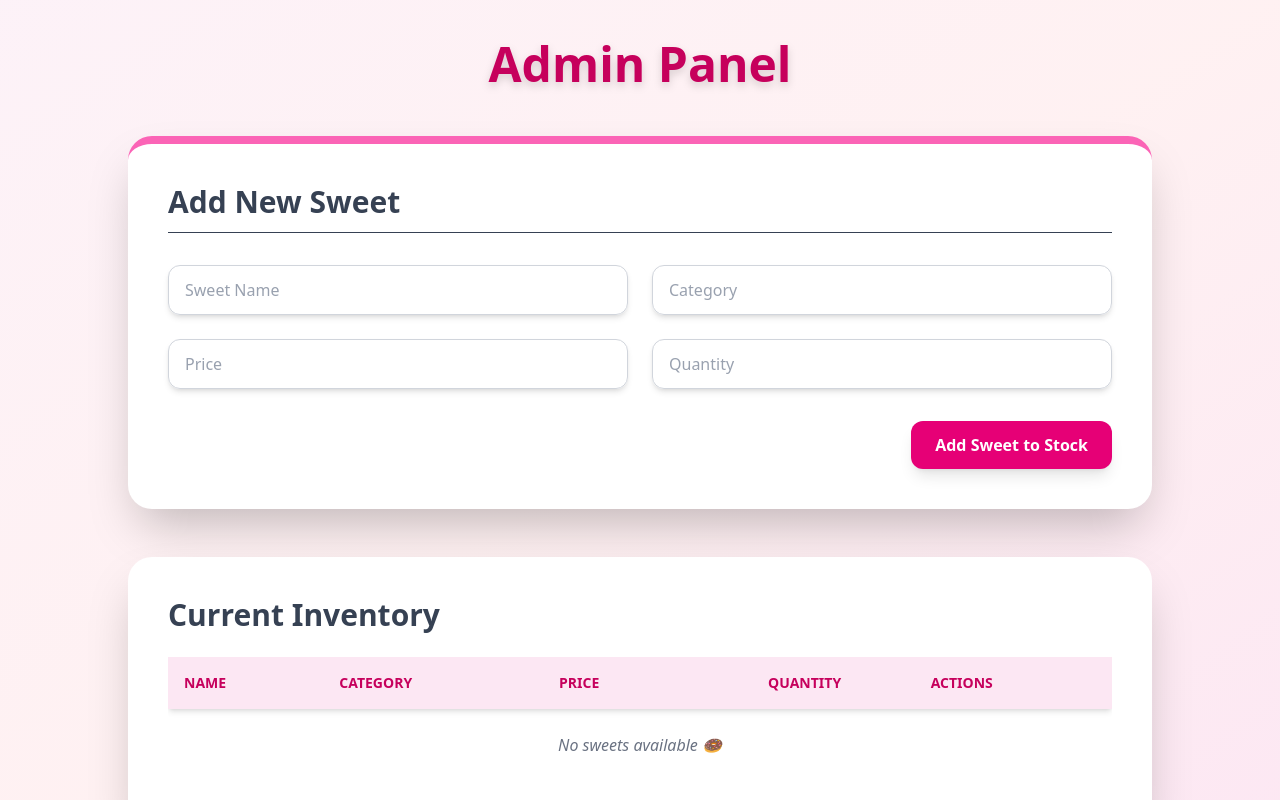
Test case: AdminSweetsPage › adds a new sweet
# Using the simple placeholders from the latest component file
Type "Barfi" into the field with placeholder "Sweet Name".
click(398, 290); type("Barfi")  # box 168,265 -> 628,315
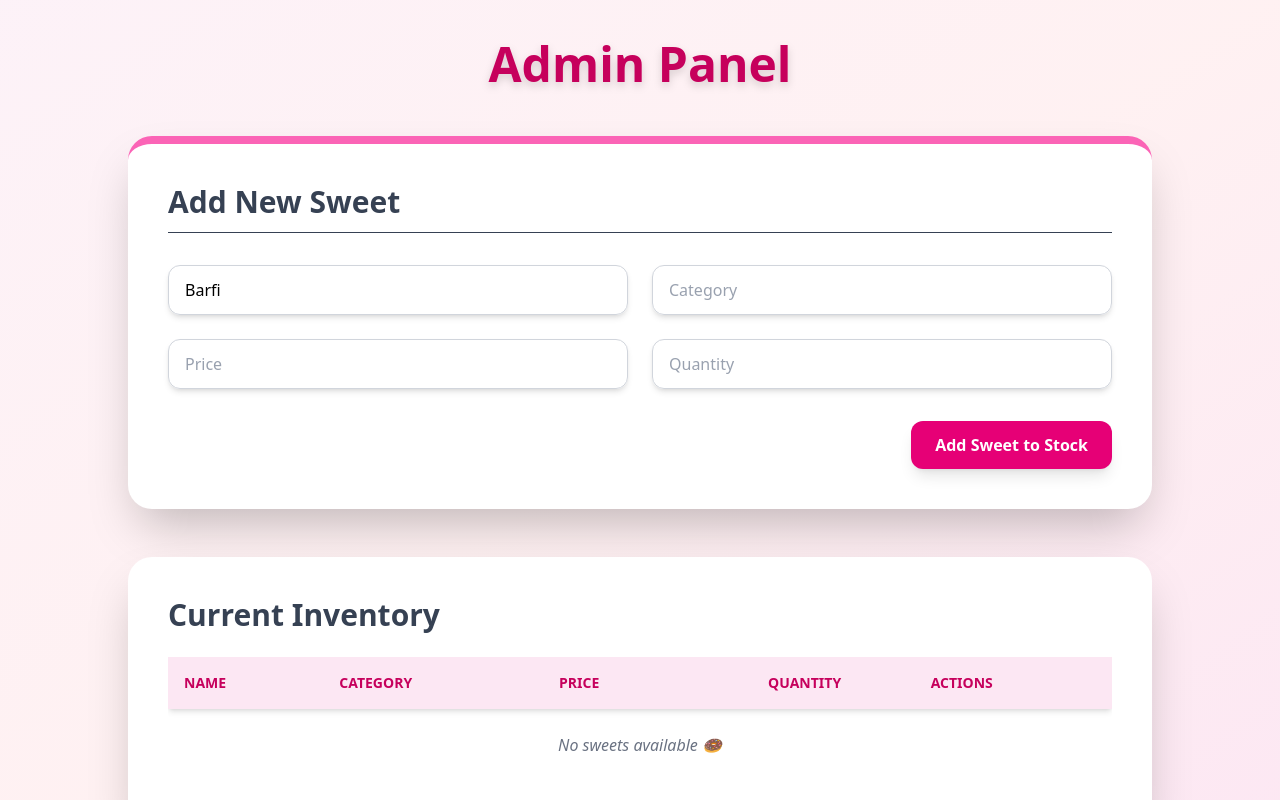
Type "Indian" into the field with placeholder "Category".
click(882, 290); type("Indian")  # box 652,265 -> 1112,315
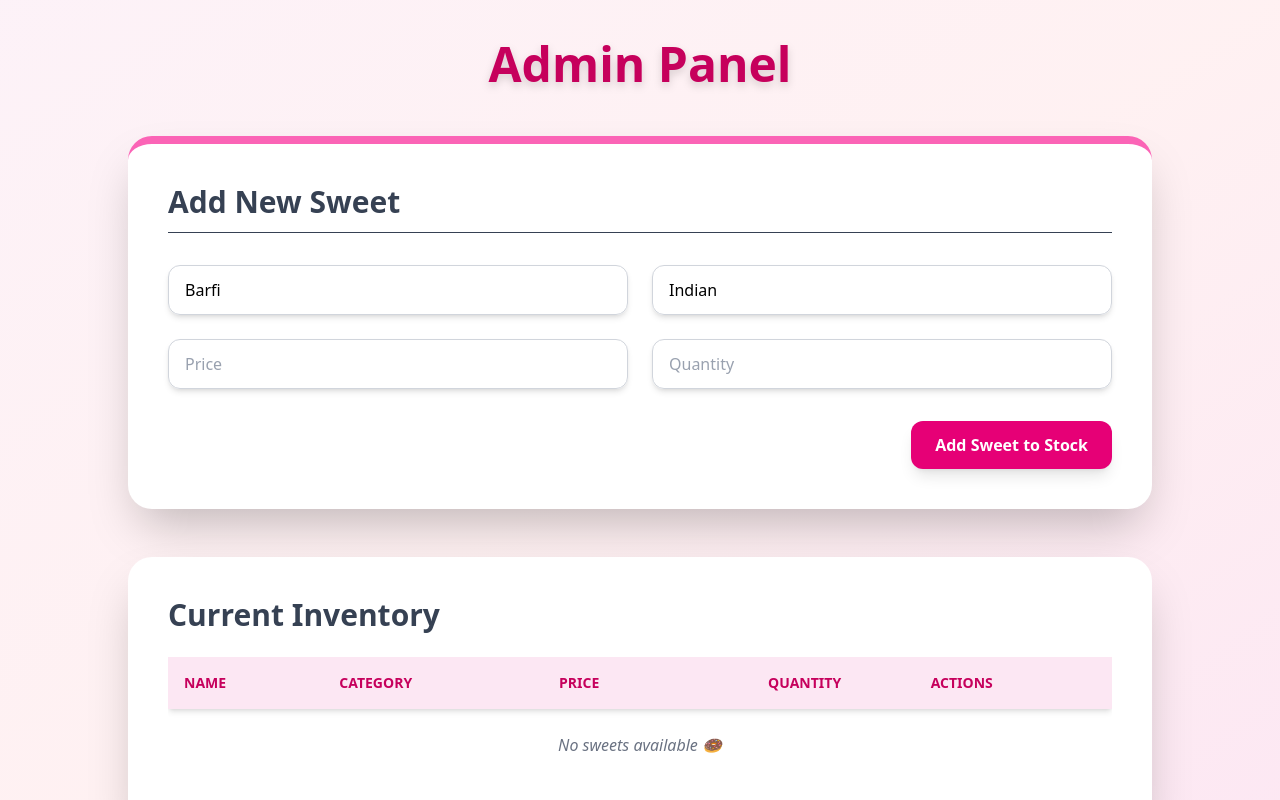
Type "20" into the number field with placeholder "Price".
click(398, 364); type("20")  # box 168,339 -> 628,389
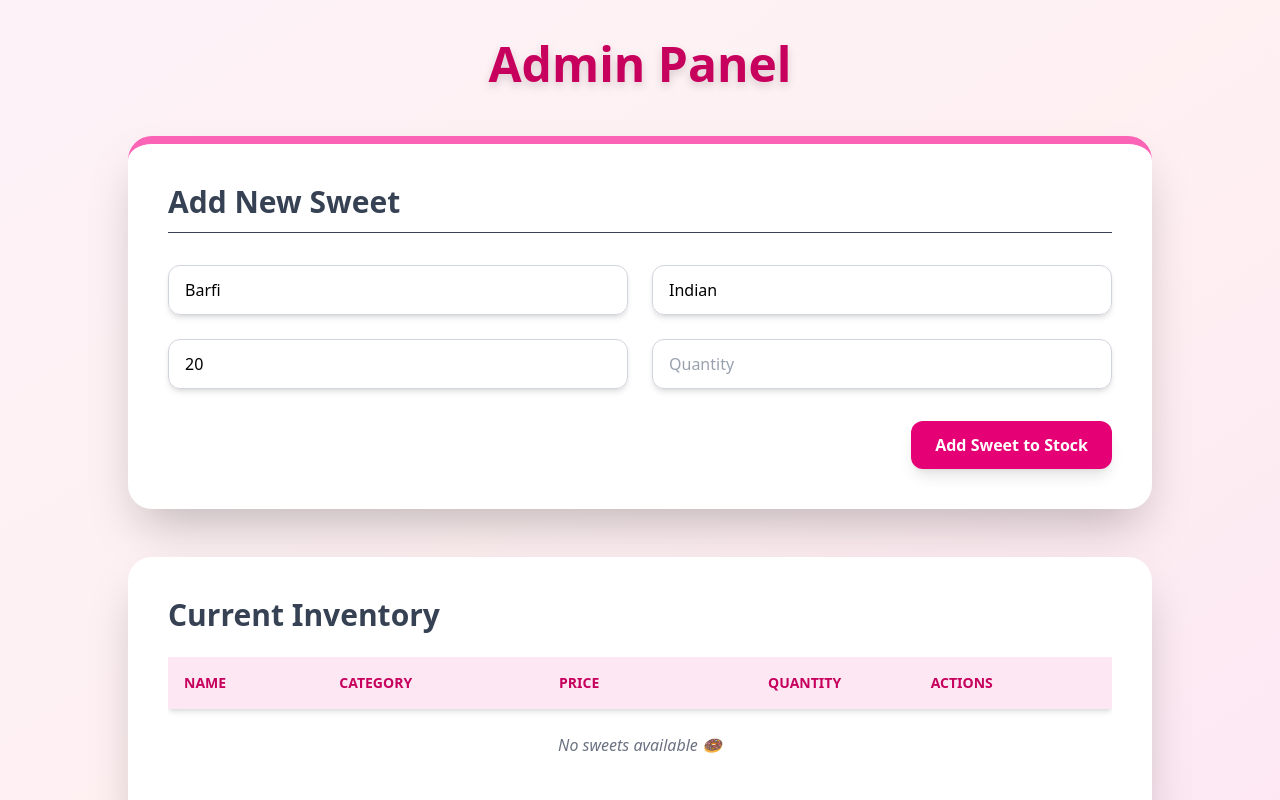
Type "3" into the number field with placeholder "Quantity".
click(882, 364); type("3")  # box 652,339 -> 1112,389
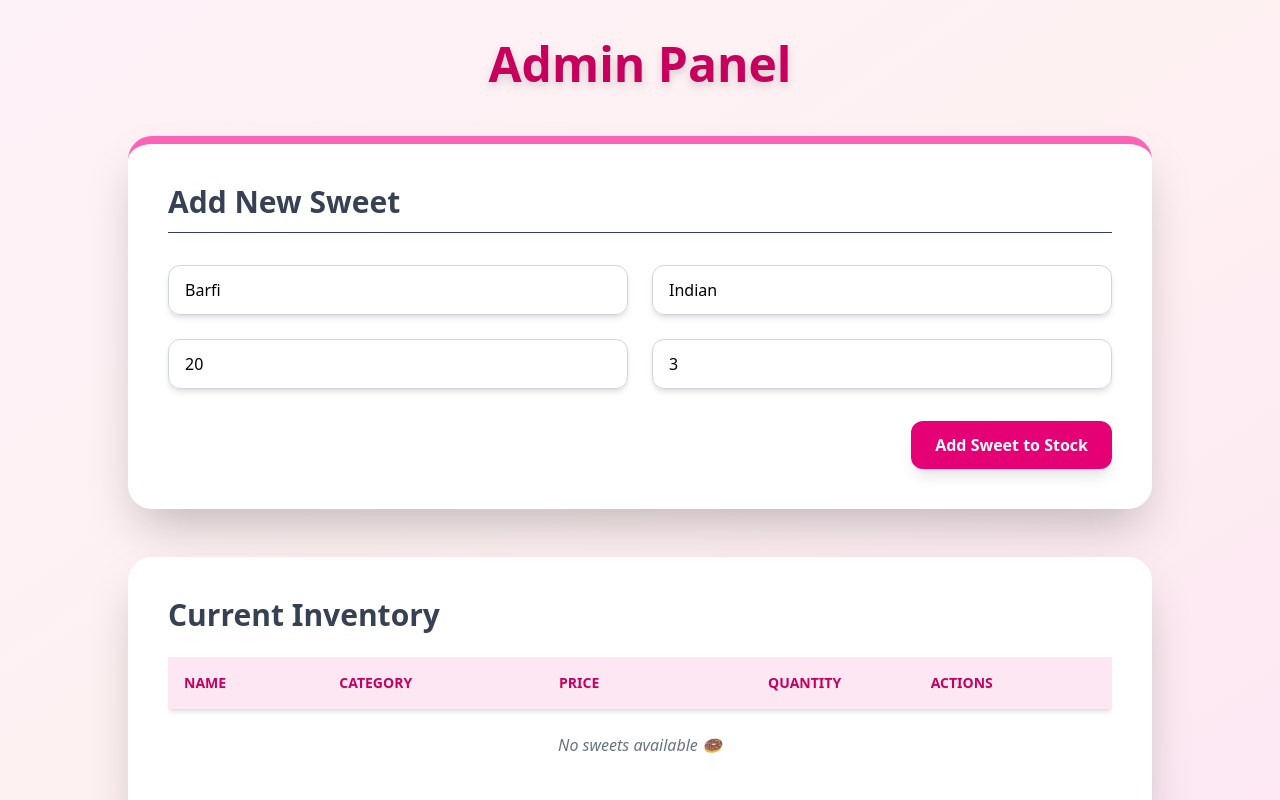
Click the button "Add Sweet to Stock".
click(1012, 445)  # box 911,421 -> 1112,469
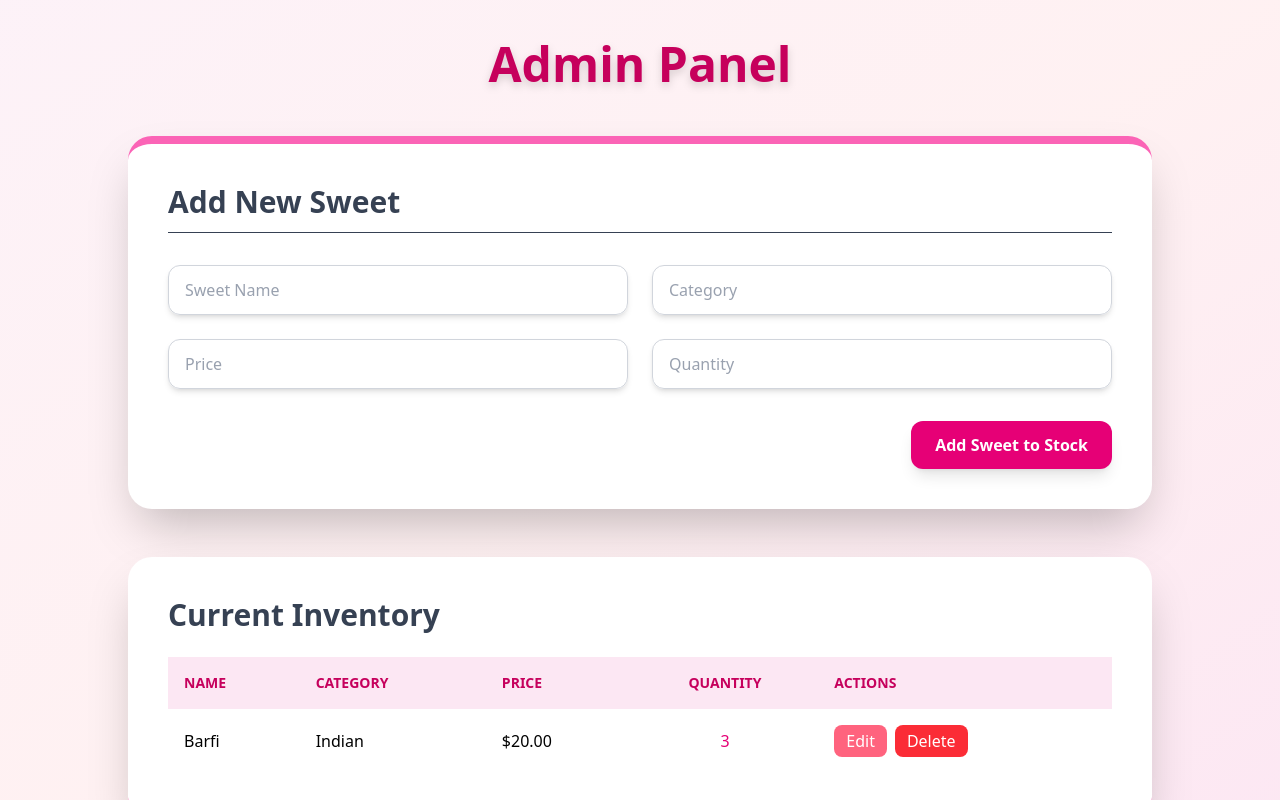
Expected: the text "Barfi" is shown, 168,709 -> 300,773
